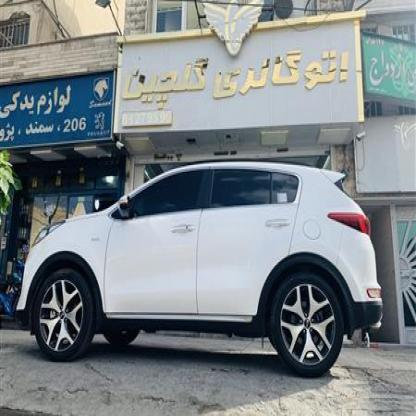Car: (20, 154, 382, 370)
